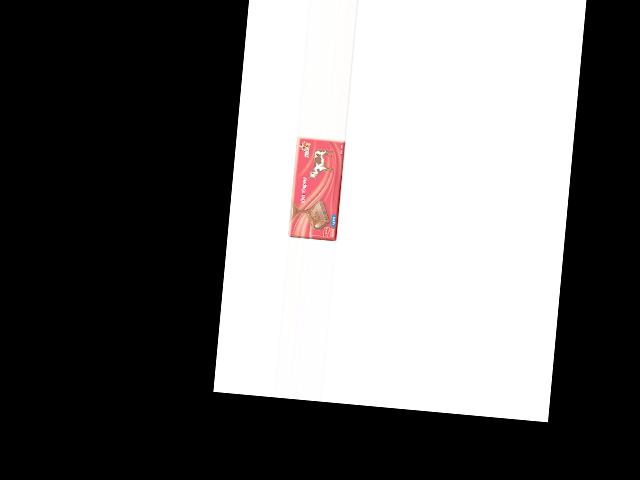chocolate: (287, 135, 345, 241)
